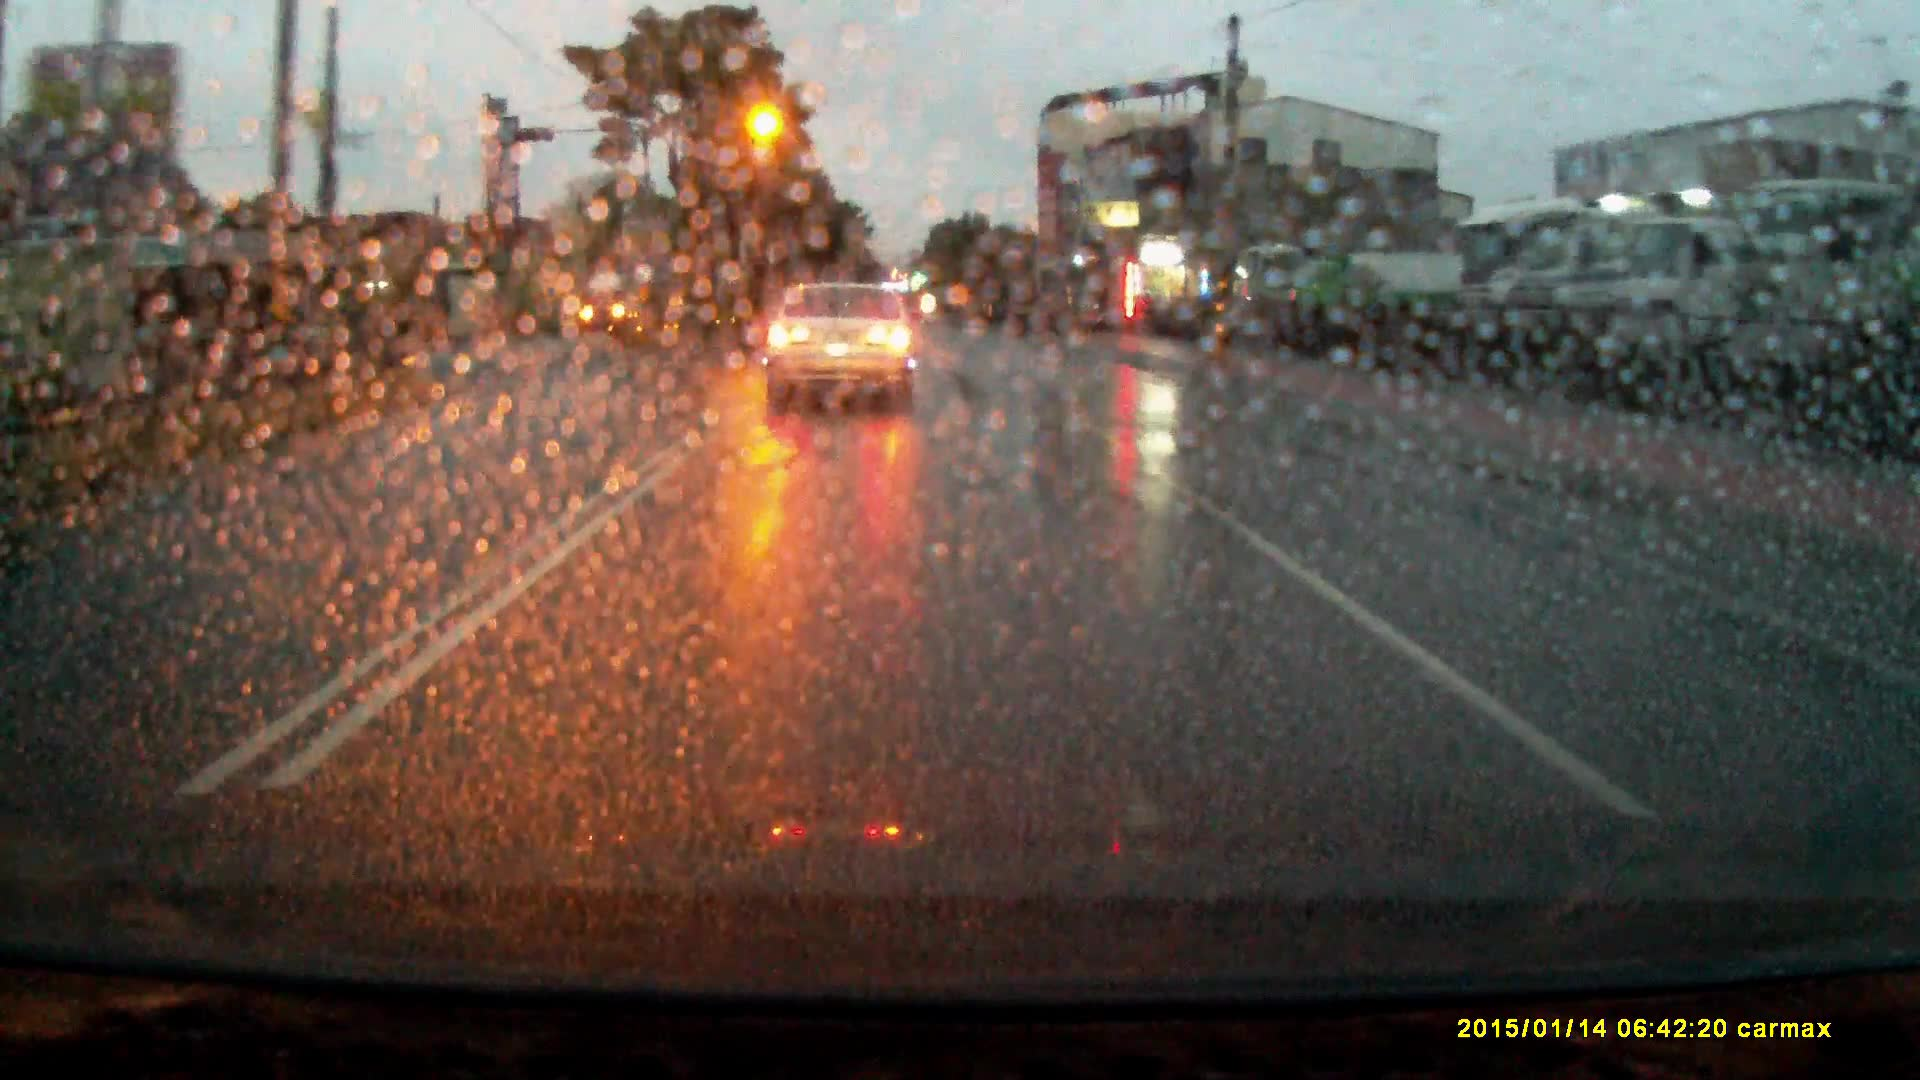vehicle: (1721, 179, 1884, 414), (1576, 219, 1745, 402), (764, 282, 922, 414), (1457, 202, 1578, 368), (1284, 252, 1466, 338), (1234, 243, 1309, 330), (582, 277, 640, 330)
